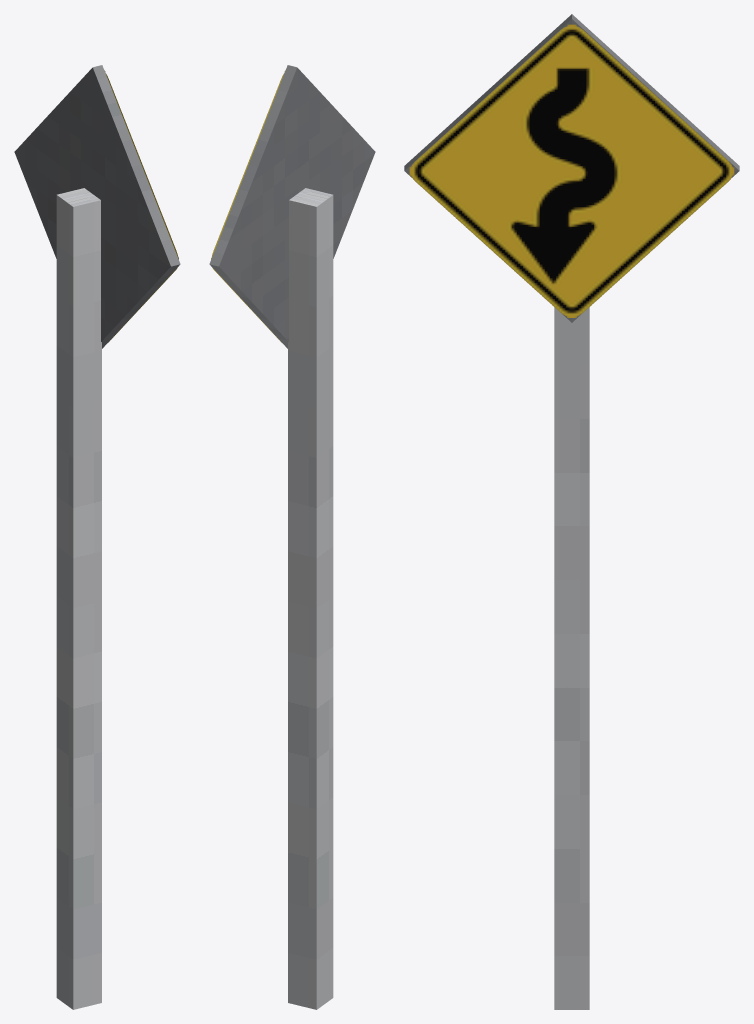
The model's file is signwarning.obj.
3 views of the same model, side by side, from view 1: azimuth 30°, elevation 25°; view 2: azimuth 150°, elevation 25°; view 3: azimuth 270°, elevation 25° (orthographic). The views are drawn at different scales.
Visible parts, largest first — view 1: cube, cylinder, plane; view 2: cube, cylinder, plane; view 3: plane, cube, cylinder.
Part boxes in pixels (left/top/right/bottom): cube: left=56, top=188, right=101, bottom=1009; cylinder: left=14, top=65, right=180, bottom=348; plane: left=104, top=70, right=178, bottom=342; cube: left=288, top=188, right=333, bottom=1009; cylinder: left=209, top=65, right=375, bottom=348; plane: left=211, top=70, right=285, bottom=342; plane: left=409, top=24, right=734, bottom=317; cube: left=554, top=307, right=589, bottom=1009; cylinder: left=404, top=14, right=739, bottom=322.
Size of the model in its own units: 0.125 by 2.89 by 0.8839.
3 materials, 3 textured.
